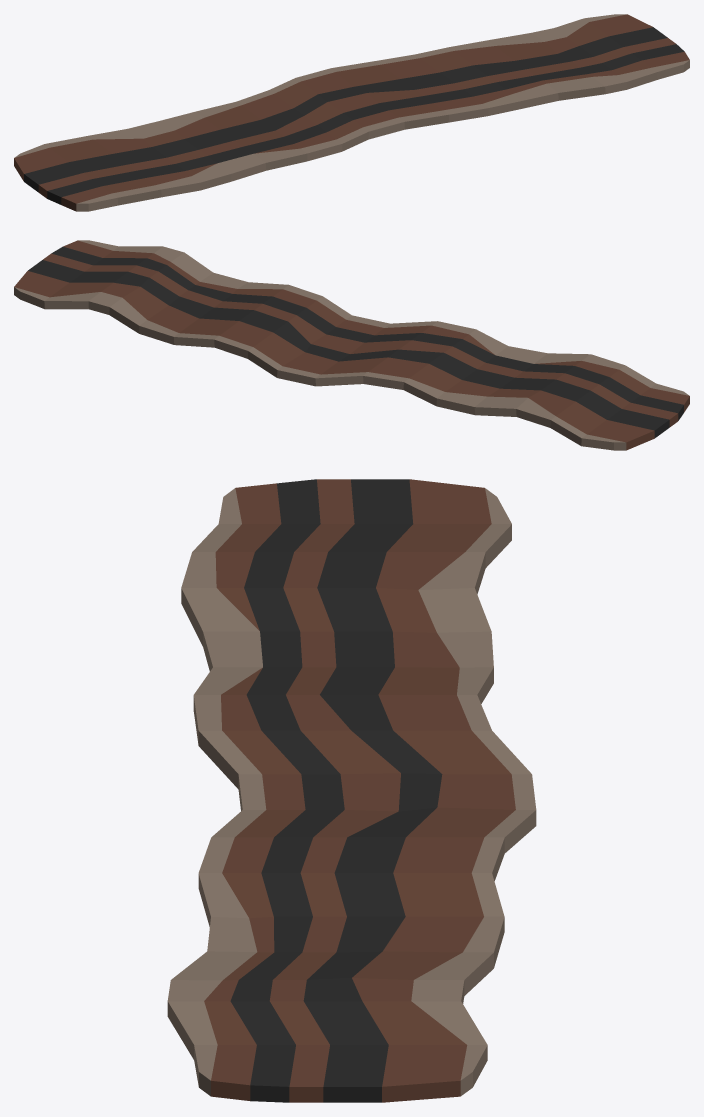
The model's file is Bacon_Burned.glb.
3 views of the same model, one above another, from view 1: azimuth 30°, elevation 25°; view 2: azimuth 150°, elevation 25°; view 3: azimuth 270°, elevation 25° (orthographic). The views are drawn at different scales.
Parts seen in each view (by area): view 1: Bacon_Burned; view 2: Bacon_Burned; view 3: Bacon_Burned.
Part boxes in pixels (x1,y1,x2,y2): Bacon_Burned: (14, 14, 689, 211); Bacon_Burned: (14, 240, 689, 450); Bacon_Burned: (167, 479, 536, 1102).
Size of the model in its own units: 0.1991 by 0.00366 by 0.051.
